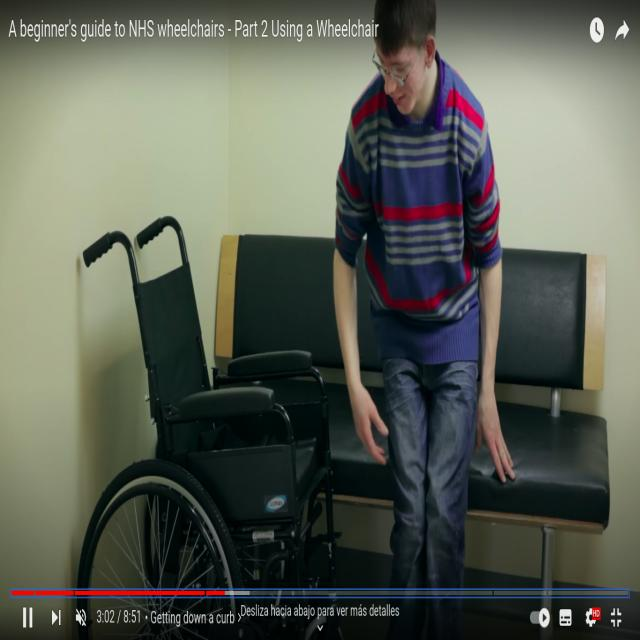wheelchairs: (70, 210, 338, 587)
